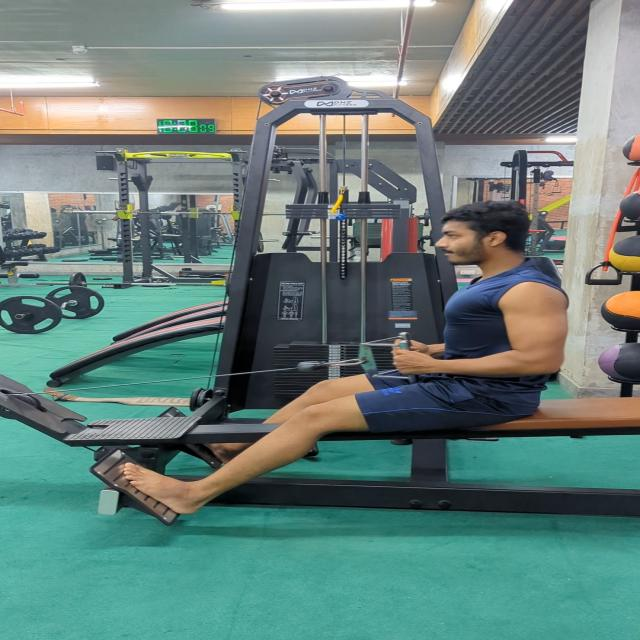Normal_RowingMachineExercise: (116, 197, 572, 516)
